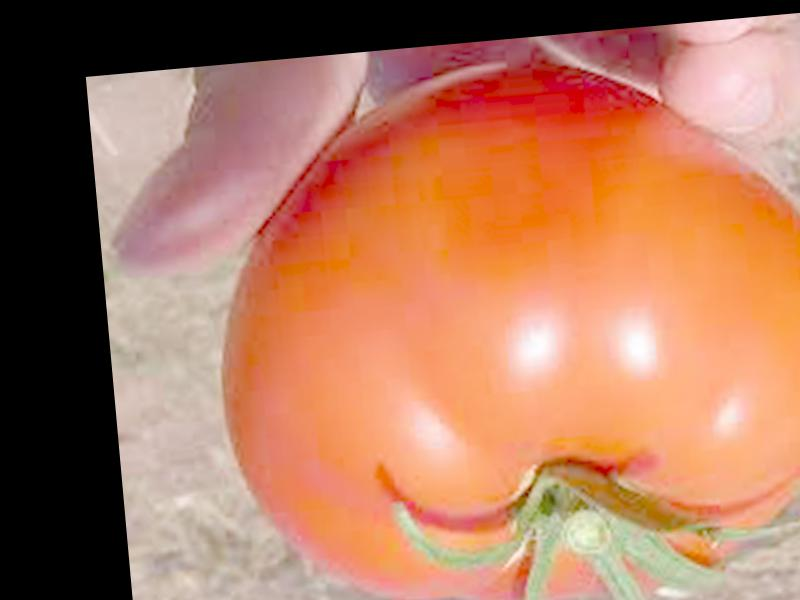Tomato: (205, 41, 800, 600)
